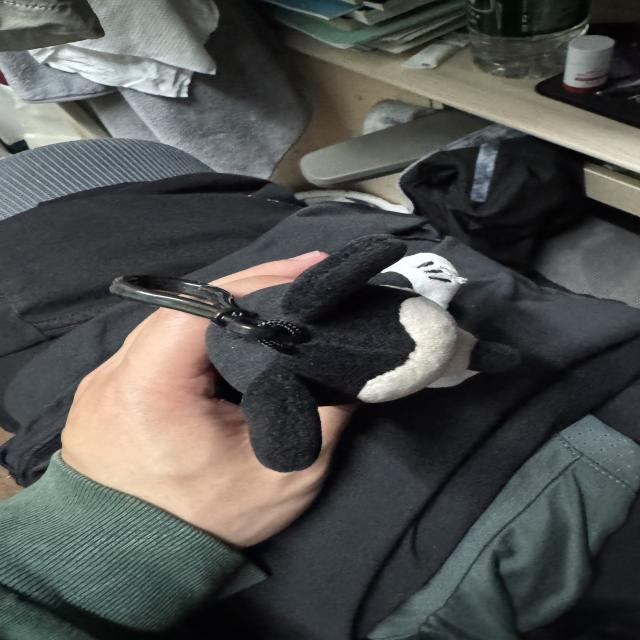mickey: (190, 236, 519, 471), (359, 304, 478, 402), (427, 328, 519, 388), (370, 253, 466, 308)
